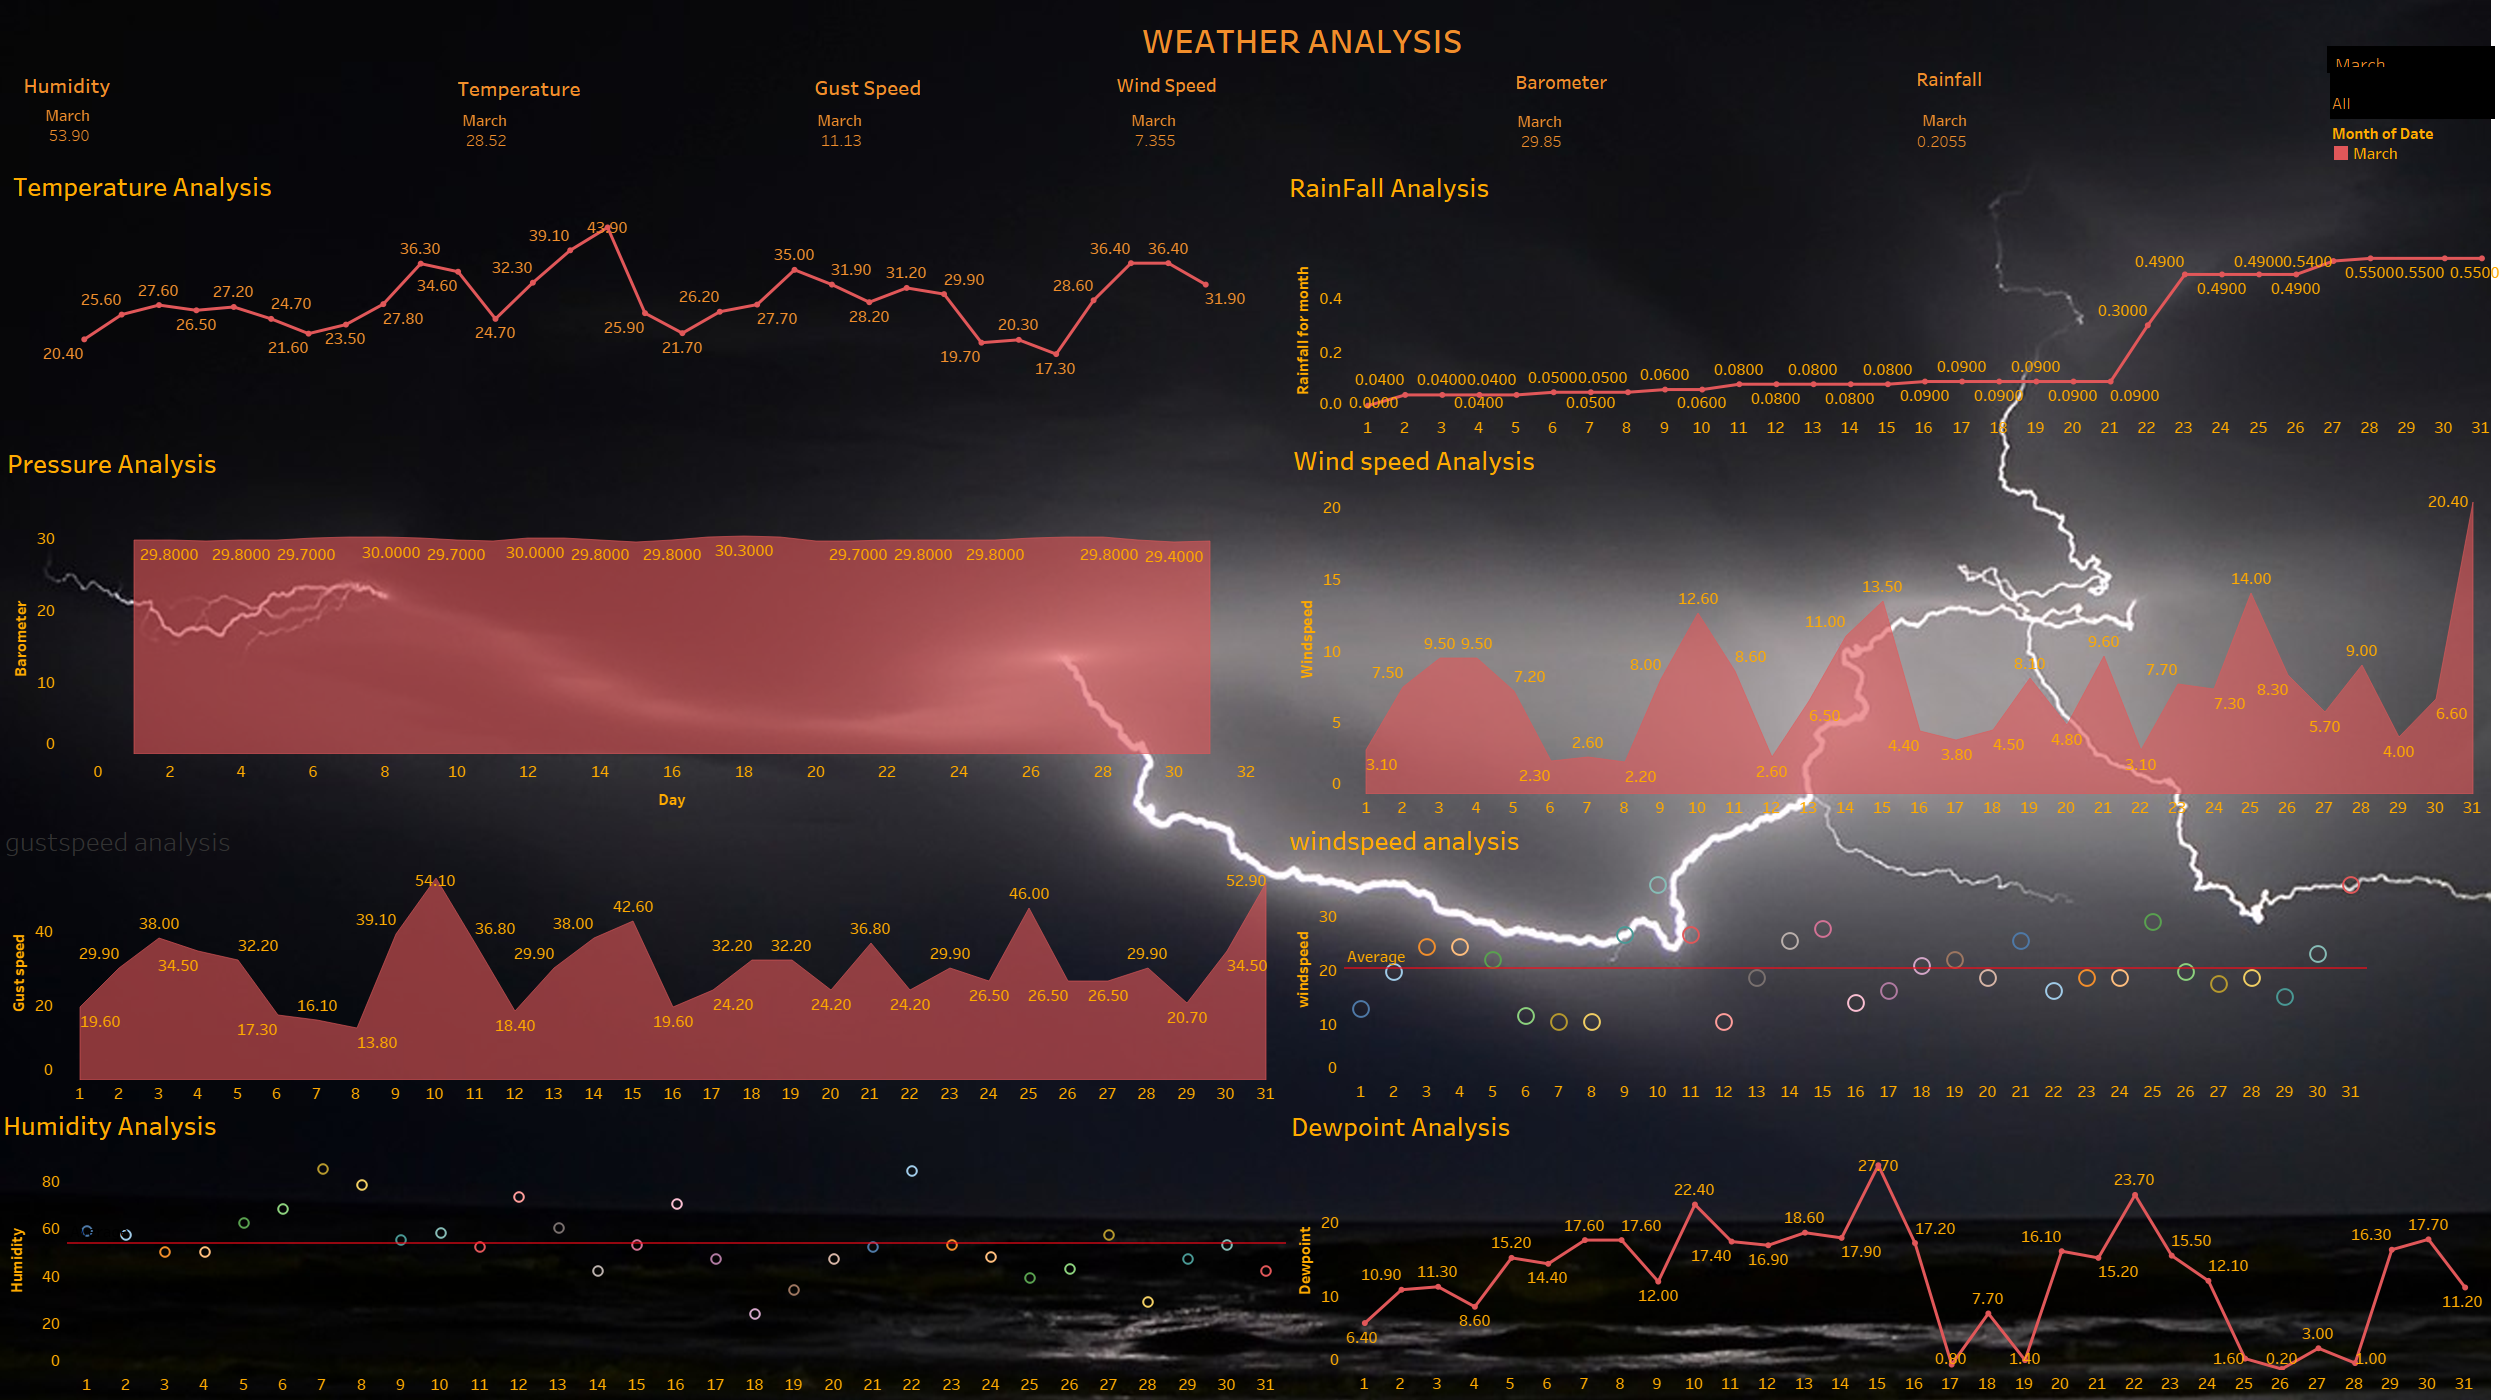

The dashboard page shown, as its layout file describes it:
{"tool":"tableau","page":{"name":"Dashboard 1","canvas":[2500,1400],"ordinal":0},"visuals":[{"type":"text","box":[1102.4,3.9,400,71.4]},{"type":"filter","title":"Sheet 10","param":"[federated.0jsqtw80ryvr9v18d5jj30ukak3k].[mn:Date:ok]","box":[2327.4,46.3,167.9,27]},{"type":"text","box":[1913.1,52.1,158.3,54.1]},{"type":"text","box":[1511.9,55,158.3,54.1]},{"type":"text","box":[1113.1,57.9,169.1,54.1]},{"type":"worksheet","title":"Sheet 14","mark":"Automatic","cols":["Date"],"box":[1883.3,59,438.1,93]},{"type":"worksheet","title":"Sheet 13","mark":"Automatic","cols":["Date"],"box":[1477.4,60.8,432.2,92.7]},{"type":"text","box":[20.2,65.7,214.3,38.6]},{"type":"text","box":[453.6,67.6,277.4,40.6]},{"type":"text","box":[810.7,70.5,188.1,33.8]},{"type":"filter","title":"Sheet1","param":"[federated.0jsqtw80ryvr9v18d5jj30ukak3k].[dy:Date:ok]","box":[2329.8,71.4,165.5,47.3]},{"type":"worksheet","title":"Sheet 12","mark":"Automatic","cols":["Date"],"box":[1103.6,94.6,370.2,58.9]},{"type":"worksheet","title":"Sheet 9","mark":"Automatic","cols":["Date"],"box":[14.3,105.2,407.2,53.1]},{"type":"worksheet","title":"Sheet 10","mark":"Automatic","cols":["Date"],"box":[440.5,110.1,359.5,47.3]},{"type":"worksheet","title":"Sheet 11","mark":"Automatic","cols":["Date"],"box":[806,110.1,292.9,46.3]},{"type":"legend","title":"Sheet 6","param":"[federated.0jsqtw80ryvr9v18d5jj30ukak3k].[mn:Date:ok]","box":[2331,120.7,165.5,104.3]},{"type":"worksheet","title":"Sheet1","mark":"Automatic","rows":["Average temperature"],"cols":["Date","Date"],"box":[7.4,163.3,1276.5,276.3]},{"type":"worksheet","title":"Sheet 2","mark":"Automatic","rows":["Rainfall for month"],"cols":["Date","Date"],"box":[1285.3,164.3,1214.7,275.3]},{"type":"worksheet","title":"Sheet 4","mark":"Area","rows":["Average windspeed"],"cols":["Date","Date"],"box":[1289.3,437.4,1202.4,382.3]},{"type":"worksheet","title":"Sheet 5","mark":"Area","rows":["Average barometer"],"cols":["Date","Date"],"box":[3,439.6,1279.4,377.1]},{"type":"worksheet","title":"Sheet 8","mark":"Shape","rows":["Maximum windspeed"],"cols":["Date","Date"],"box":[1285,817,1213,286]},{"type":"worksheet","title":"Sheet 7","mark":"Area","rows":["Maximum gust speed"],"cols":["Date","Date"],"box":[1.5,817.6,1285.3,287.5]},{"type":"worksheet","title":"Sheet 6","mark":"Line","rows":["Average dewpoint"],"cols":["Date","Date"],"box":[1286.8,1103.2,1195.6,292.1]}]}

Visuals, with their boxes in screenshot pixels (x1, y1, x2, y2), scaled from the page's 2500x1400 canvas onto the 2500x1400 screenshot:
text: (left=1102, top=4, right=1502, bottom=75)
"Sheet 10" filter: (left=2327, top=46, right=2495, bottom=73)
text: (left=1913, top=52, right=2071, bottom=106)
text: (left=1512, top=55, right=1670, bottom=109)
text: (left=1113, top=58, right=1282, bottom=112)
"Sheet 14" worksheet: (left=1883, top=59, right=2321, bottom=152)
"Sheet 13" worksheet: (left=1477, top=61, right=1910, bottom=154)
text: (left=20, top=66, right=234, bottom=104)
text: (left=454, top=68, right=731, bottom=108)
text: (left=811, top=70, right=999, bottom=104)
"Sheet1" filter: (left=2330, top=71, right=2495, bottom=119)
"Sheet 12" worksheet: (left=1104, top=95, right=1474, bottom=154)
"Sheet 9" worksheet: (left=14, top=105, right=422, bottom=158)
"Sheet 10" worksheet: (left=440, top=110, right=800, bottom=157)
"Sheet 11" worksheet: (left=806, top=110, right=1099, bottom=156)
"Sheet 6" legend: (left=2331, top=121, right=2496, bottom=225)
"Sheet1" worksheet: (left=7, top=163, right=1284, bottom=440)
"Sheet 2" worksheet: (left=1285, top=164, right=2499, bottom=440)
"Sheet 4" worksheet (Area marks): (left=1289, top=437, right=2492, bottom=820)
"Sheet 5" worksheet (Area marks): (left=3, top=440, right=1282, bottom=817)
"Sheet 8" worksheet (Shape marks): (left=1285, top=817, right=2498, bottom=1103)
"Sheet 7" worksheet (Area marks): (left=2, top=818, right=1287, bottom=1105)
"Sheet 6" worksheet (Line marks): (left=1287, top=1103, right=2482, bottom=1395)
